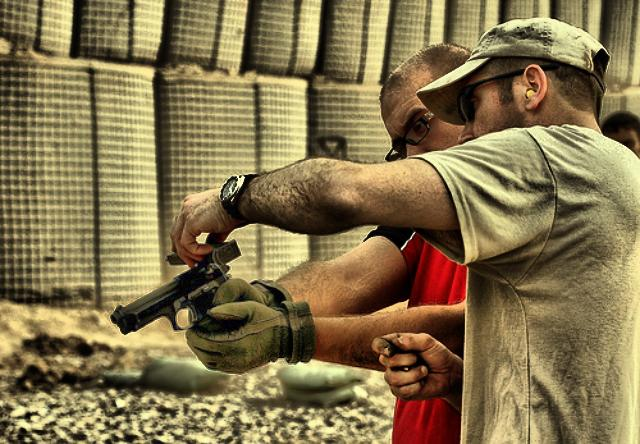pistol: (112, 251, 228, 345)
